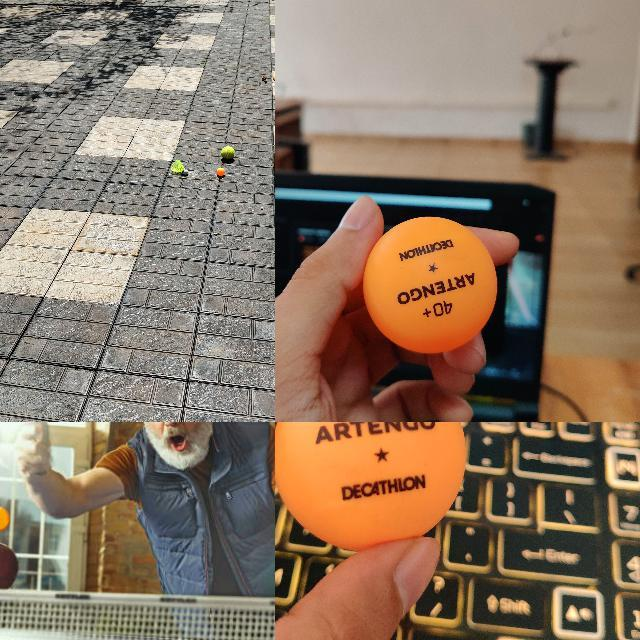ping-pong-ball: (275, 422, 471, 551), (360, 216, 500, 352), (0, 505, 9, 531), (217, 168, 225, 176)
